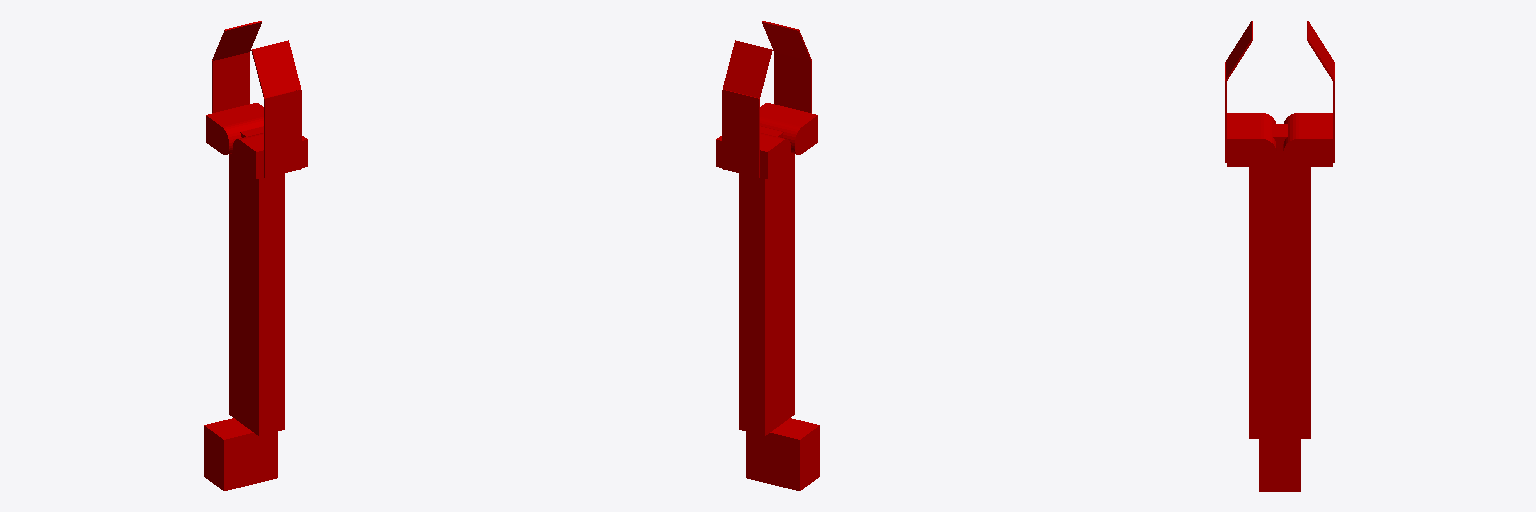
The robot description file, URDF, robot "raspigibbon":
<?xml version="1.0"?>
<robot name="raspigibbon">
 
  <link name="base" />
  <link name="base_link">
    <visual>
      <origin xyz="0 0 0.0227" rpy="0 0 0" />
      <geometry>
    <box size="0.0499 0.032 0.0454" />
      </geometry>
      <material name="red">
    <color rgba=".8 0 0 1" />
      </material>
    </visual>
  </link>
 
  <joint name="joint0" type="fixed">
    <parent link="base"/>
    <child link="base_link"/>
    <origin xyz="0 0 0" rpy="0 0 0" />
  </joint>

  <joint name="joint1" type="revolute">
    <parent link="base_link"/>
    <child link="link1"/>
    <origin xyz="0.0145 0 0.0454" rpy="0 0 0" />
    <axis xyz="0 0 1" />
    <limit lower="-2.61" upper="2.61" effort="0.5" velocity="6.0" />
  </joint>
 
  <link name="link1">
    <visual>
      <origin xyz="0 0 0.013" rpy="0 0 0" />
      <geometry>
        <box size="0.024 0.0475 0.026" />
      </geometry>
      <material name="red" />
    </visual>
 
    <visual>
      <origin xyz="0 0 0.026" rpy="1.57079632675 0 0" />
      <geometry>
        <cylinder radius="0.012" length="0.0475" />
      </geometry>
      <material name="red" />
    </visual>
  </link>
 
  <joint name="joint2" type="revolute">
    <parent link="link1"/>
    <child link="link2"/>
    <origin xyz="0 0 0.026" rpy="0 0 0" />
    <axis xyz="0 1 0" />
    <limit lower="-1.75" upper="1.75" effort="0.5" velocity="6.0" />
  </joint>
 
  <link name="link2">
    <visual>
      <origin xyz="0 0 0" rpy="1.57079632675 0 0" />
      <geometry>
        <cylinder radius="0.012" length="0.0475" />
      </geometry>
      <material name="red" />
    </visual>
 
    <visual>
      <origin xyz="0 0 0.0415" rpy="0 0 0" />
      <geometry>
        <box size="0.024 0.0475 0.083" />
      </geometry>
      <material name="red" />
    </visual>
 
    <visual>
      <origin xyz="0 0 0.083" rpy="1.57079632675 0 0" />
      <geometry>
        <cylinder radius="0.012" length="0.0475" />
      </geometry>
      <material name="red" />
    </visual>
  </link>
 
  <joint name="joint3" type="revolute">
    <parent link="link2"/>
    <child link="link3"/>
    <origin xyz="0 0 0.083" rpy="0 0 0" />
    <axis xyz="0 -1 0" />
    <limit lower="-2.55" upper="2.55" effort="0.5" velocity="6.0" />
  </joint>
 
  <link name="link3">
    <visual>
      <origin xyz="0 0 0" rpy="1.57079632675 0 0" />
      <geometry>
        <cylinder radius="0.012" length="0.0475" />
      </geometry>
      <material name="red" />
    </visual>
 
    <visual>
      <origin xyz="0 0 0.04675" rpy="0 0 0" />
      <geometry>
        <box size="0.024 0.0475 0.0935" />
      </geometry>
      <material name="red" />
    </visual>
 
    <visual>
      <origin xyz="0 0 0.0935" rpy="1.57079632675 0 0" />
      <geometry>
        <cylinder radius="0.012" length="0.0475" />
      </geometry>
      <material name="red" />
    </visual>
  </link>
 
  <joint name="joint4" type="revolute">
    <parent link="link3"/>
    <child link="link4"/>
    <origin xyz="0 0 0.0935" rpy="0 0 0" />
    <axis xyz="0 -1 0" />
    <limit lower="-1.80" upper="1.80" effort="0.5" velocity="6.0" />
  </joint>
 
  <link name="link4">
    <visual>
      <origin xyz="0 0 0" rpy="1.57079632675 0 0" />
      <geometry>
        <cylinder radius="0.012" length="0.0475" />
      </geometry>
      <material name="red" />
    </visual>
 
    <visual>
      <origin xyz="0 0 0.0227" rpy="0 0 0" />
      <geometry>
        <box size="0.024 0.0475 0.061" />
      </geometry>
      <material name="red" />
    </visual>
 
    <!-- <visual> -->
    <!--   <origin xyz="0 0.03295 0.065727241" rpy="&#45;0.52359878 0 0" /> -->
    <!--   <geometry> -->
    <!--     <box size="0.034 0.0014 0.019" /> -->
    <!--   </geometry> -->
    <!--   <material name="red" /> -->
    <!-- </visual> -->
 
    <!-- <visual> -->
    <!--   <origin xyz="0 0.0377 0.08765" rpy="0 0 0" /> -->
    <!--   <geometry> -->
    <!--     <box size="0.034 0.0014 0.0254" /> -->
    <!--     <!&#45;&#45; <box size="0.034 0.0014 0.070" /> &#45;&#45;> -->
    <!--   </geometry> -->
    <!--   <material name="red" /> -->
    <!-- </visual> -->

    <!-- <visual> -->
    <!--   <origin xyz="0 0.0277 0.11935" rpy="&#45;0.52359878 0 3.14159" /> -->
    <!--   <geometry> -->
    <!--     <box size="0.034 0.0014 0.040299" /> -->
    <!--   </geometry> -->
    <!--   <material name="red" /> -->
    <!-- </visual> -->
  </link>
 
  <joint name="joint5" type="revolute">
    <parent link="link4"/>
    <child link="link5"/>
    <origin xyz="0 -0.0145 0.045" rpy="0 0 0" />
    <axis xyz="-1 0 0" />
    <limit lower="-0.69" upper="0.69" effort="0.5" velocity="6.0" />
  </joint>
 
  <link name="link5">
    <visual>
      <origin xyz="0 0 0" rpy="0 1.57079632675 0" />
      <geometry>
        <cylinder radius="0.012" length="0.0475" />
      </geometry>
      <material name="red" />
    </visual>
 
    <visual>
      <origin xyz="0 -0.013 0" rpy="0 0 0" />
      <geometry>
        <box size="0.0475 0.026 0.024" />
      </geometry>
      <material name="red" />
    </visual>
 
    <visual>
      <origin xyz="0 -0.0267 0.023" rpy="0 0 0" />
      <geometry>
        <box size="0.034 0.0014 0.070" />
      </geometry>
      <material name="red" />
    </visual>
 
    <visual>
      <origin xyz="0 -0.0166252378 0.07545" rpy="-0.52359878 0 0" />
      <geometry>
        <box size="0.034 0.0014 0.040299" />
      </geometry>
      <material name="red" />
    </visual>
  </link>
 
  <joint name="joint6" type="revolute">
    <parent link="link4"/>
    <child link="link6"/>
    <!-- <origin xyz="0 &#45;0.0145 0.045" rpy="0 0 0" /> -->
    <origin xyz="0 0.0145 0.045" rpy="0 0 3.141592" />
    <!-- <axis xyz="&#45;1 0 0" /> -->
    <axis xyz="-1 0 0" />
    <limit lower="-0.69" upper="0.69" effort="0.5" velocity="6.0" />
  </joint>
 
  <link name="link6">
    <visual>
      <origin xyz="0 0 0" rpy="0 1.57079632675 0" />
      <geometry>
        <cylinder radius="0.012" length="0.0475" />
      </geometry>
      <material name="red" />
    </visual>
 
    <visual>
      <origin xyz="0 -0.013 0" rpy="0 0 0" />
      <geometry>
        <box size="0.0475 0.026 0.024" />
      </geometry>
      <material name="red" />
    </visual>
 
    <visual>
      <origin xyz="0 -0.0267 0.023" rpy="0 0 0" />
      <geometry>
        <box size="0.034 0.0014 0.070" />
      </geometry>
      <material name="red" />
    </visual>
 
    <visual>
      <origin xyz="0 -0.0166252378 0.07545" rpy="-0.52359878 0 0" />
      <geometry>
        <box size="0.034 0.0014 0.040299" />
      </geometry>
      <material name="red" />
    </visual>
  </link>
</robot>

--- Render facts (derived) ---
Views: 3 orthographic renders of the robot side by side, from view 1: azimuth 30°, elevation 25°; view 2: azimuth 150°, elevation 25°; view 3: azimuth 270°, elevation 25°.
Model raspigibbon with 8 links and 7 joints (6 revolute, 1 fixed), rooted at base, posed every joint at zero.
Links seen in each view (by area): view 1: link5, link3, link2, link6, base_link, link4, link1; view 2: link6, link3, link2, link5, base_link, link4, link1; view 3: link3, link2, link5, link6, link4, base_link, link1.
Link boxes in pixels (left/top/right/bottom): link5: left=233, top=40, right=307, bottom=178; link3: left=229, top=188, right=284, bottom=311; link2: left=229, top=291, right=284, bottom=406; link6: left=206, top=21, right=263, bottom=154; base_link: left=204, top=418, right=277, bottom=490; link4: left=229, top=126, right=284, bottom=213; link1: left=229, top=385, right=284, bottom=435; link6: left=716, top=40, right=790, bottom=178; link3: left=739, top=190, right=794, bottom=311; link2: left=739, top=291, right=794, bottom=406; link5: left=760, top=21, right=817, bottom=154; base_link: left=746, top=418, right=819, bottom=490; link4: left=739, top=126, right=794, bottom=213; link1: left=739, top=385, right=794, bottom=435; link3: left=1249, top=200, right=1310, bottom=309; link2: left=1249, top=310, right=1310, bottom=407; link5: left=1225, top=21, right=1276, bottom=166; link6: left=1283, top=21, right=1334, bottom=166; link4: left=1249, top=124, right=1310, bottom=208; base_link: left=1259, top=439, right=1300, bottom=491; link1: left=1249, top=408, right=1310, bottom=438.
Bounding box of the posed robot: 0.0632 × 0.0838 × 0.3861 m (x, y, z).
Geometry: primitives only (box / cylinder / sphere), no mesh files.